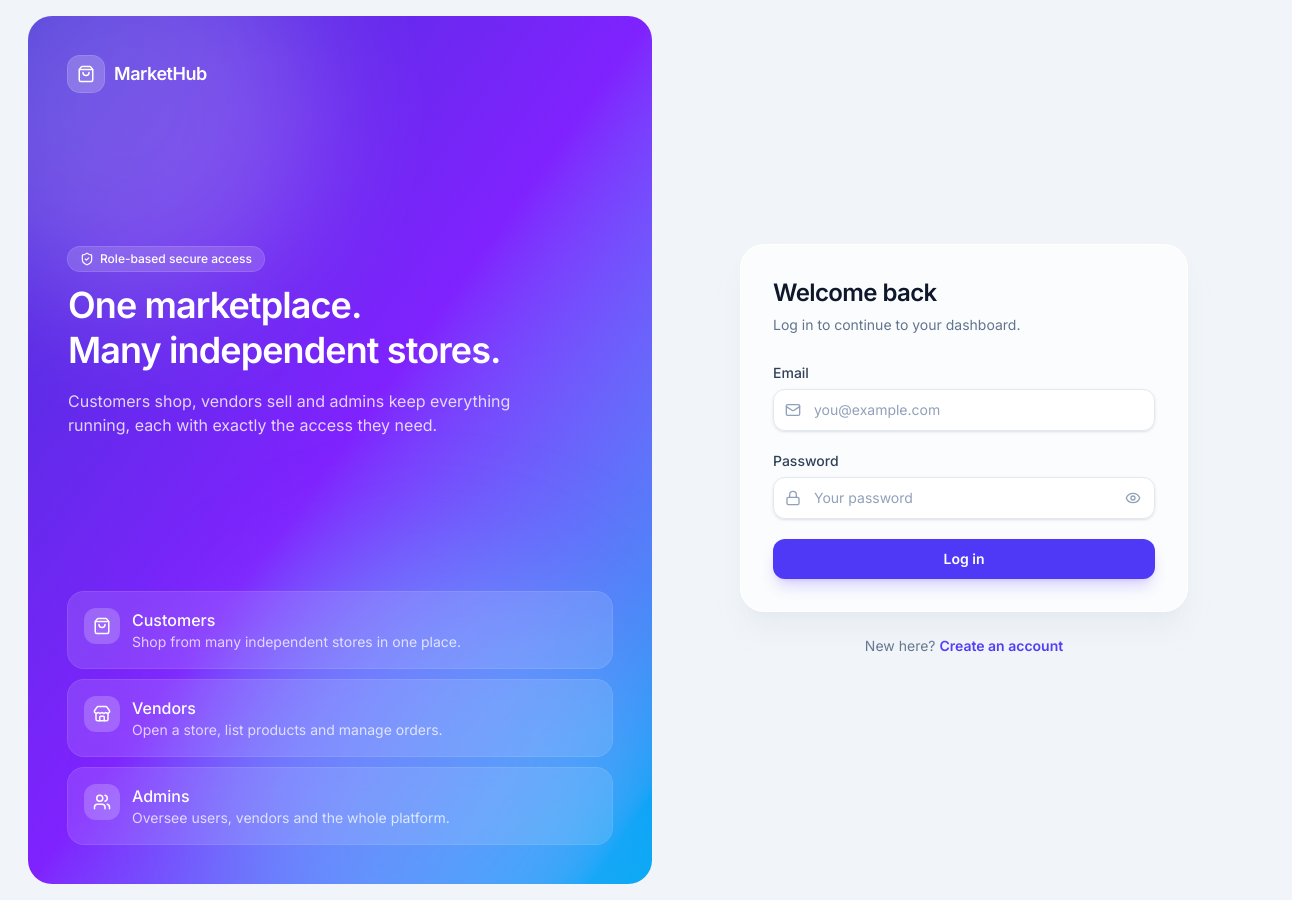
Test: Login › wrong credentials show the server message and keep the user on the page
Type "a@b.com" into the field labelled "Email" at (964, 410), box [773,389,1155,431]
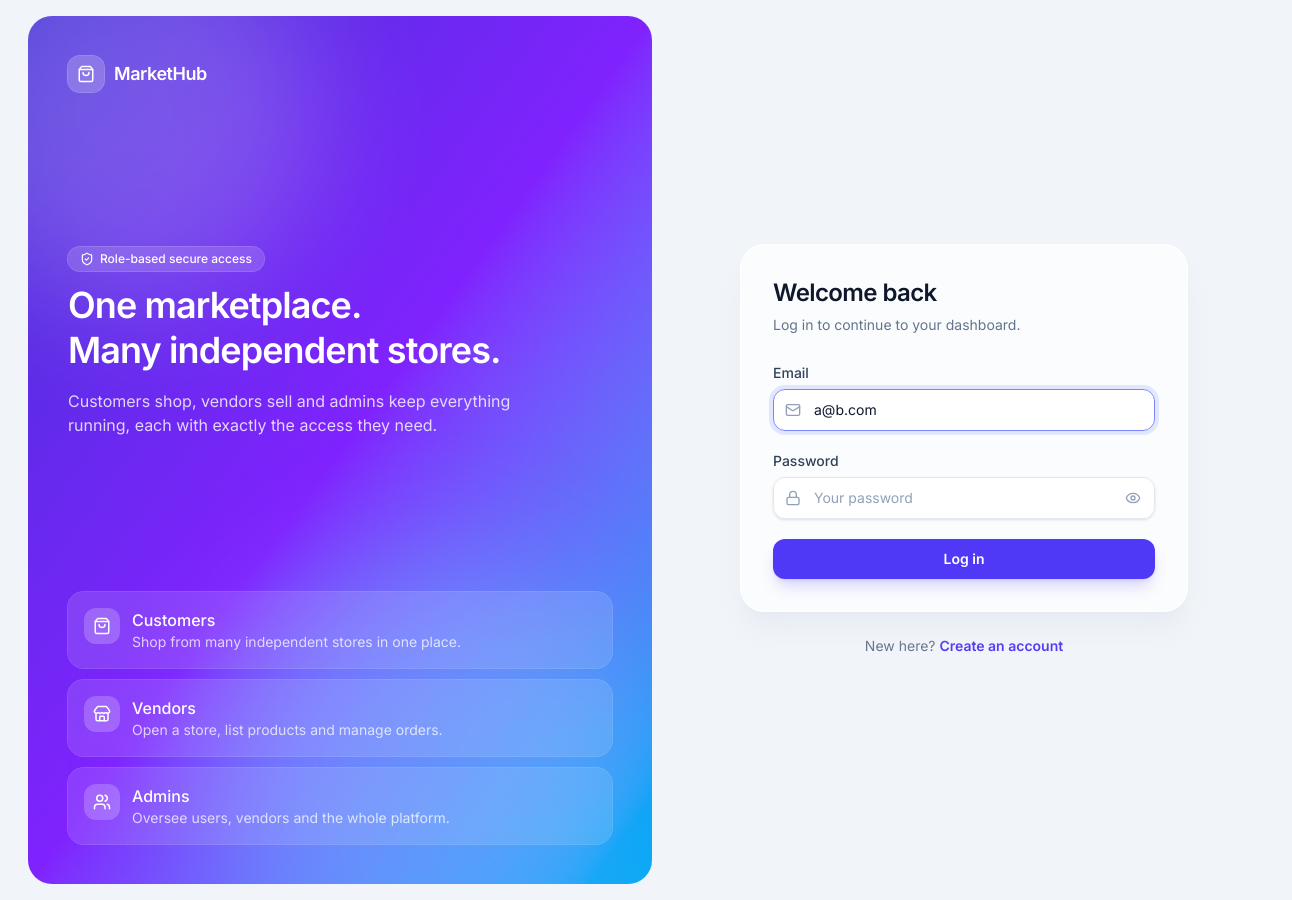
Type "wrong" into the password field labelled "Password" at (964, 498), box [773,477,1155,519]
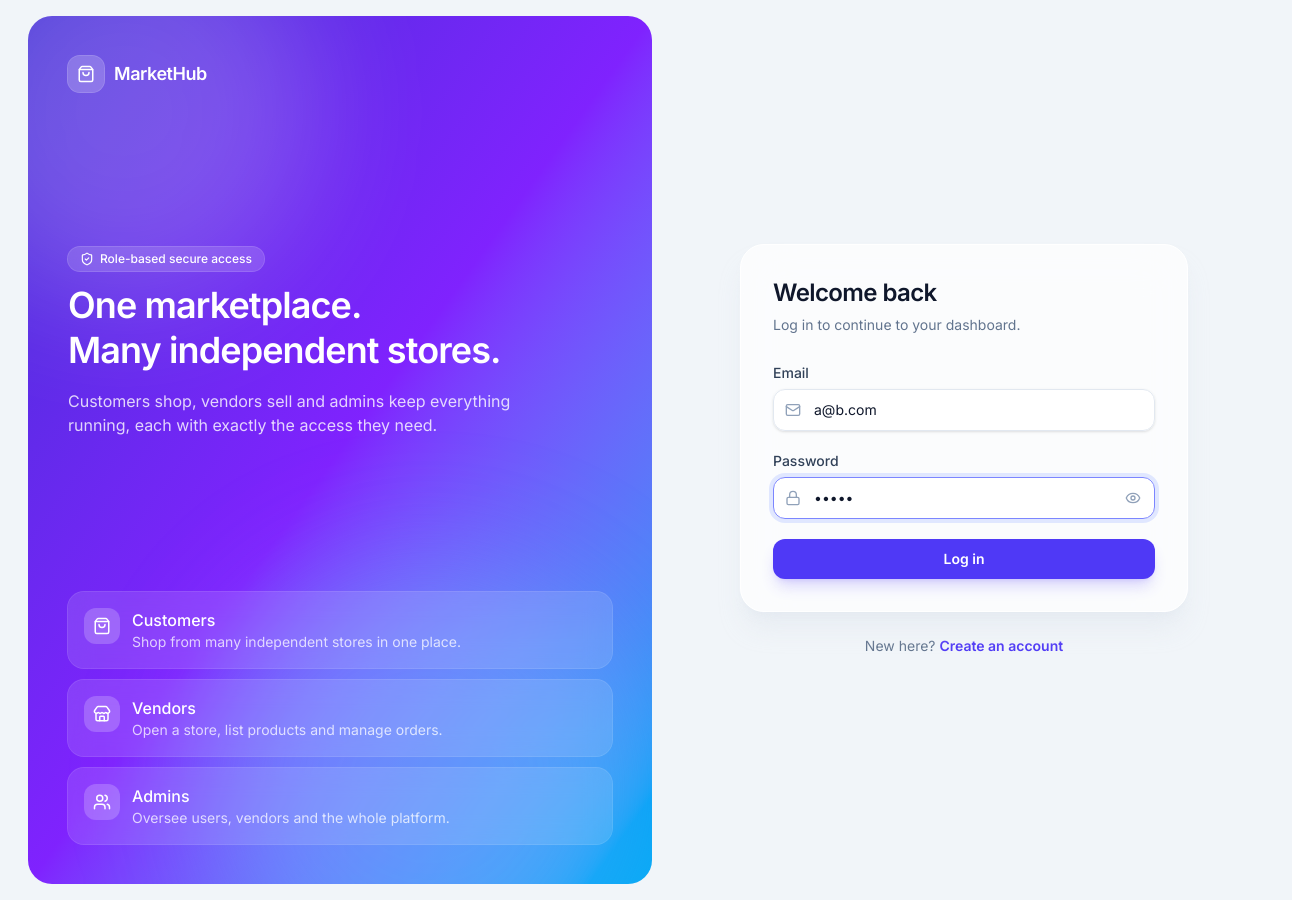
Click the button "Log in" at (964, 559), box [773,539,1155,579]
(page scrolled)
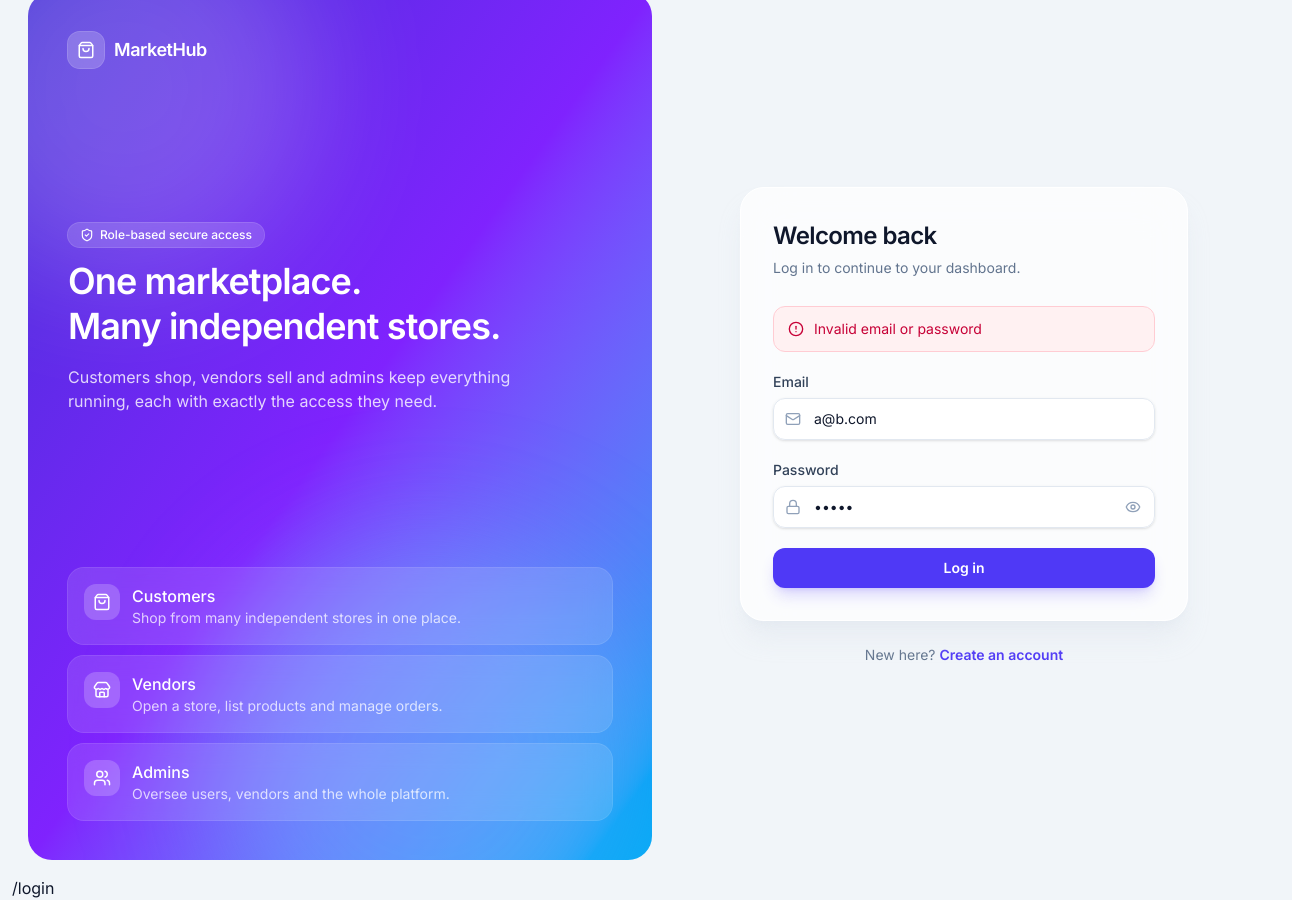
expect the text with test id "location" reads "/login": met, box [12,878,54,898]
expect the text "Invalid email or password" is shown: met, box [814,319,982,339]
